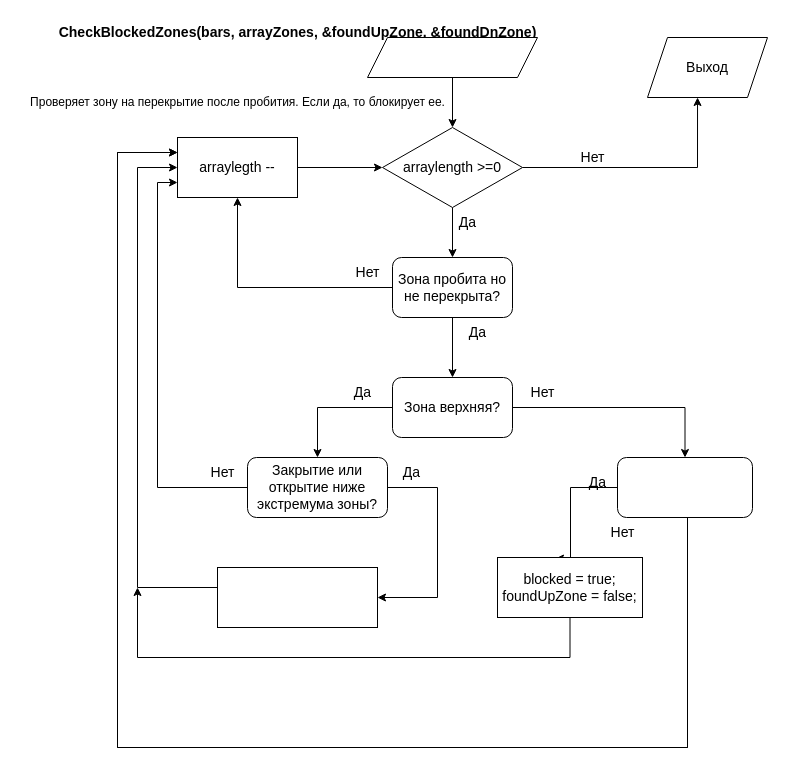
This 785x773 diagram has some shape labels left out. Here are the shapes that lost their labels. From the top down, the box of each, then its label:
(366, 36, 538, 78): Старт array_length
(616, 456, 752, 518): Закрытие или открытие выше экстремума зоны?
(216, 566, 378, 628): blocked = true; foundDownZone = false;
